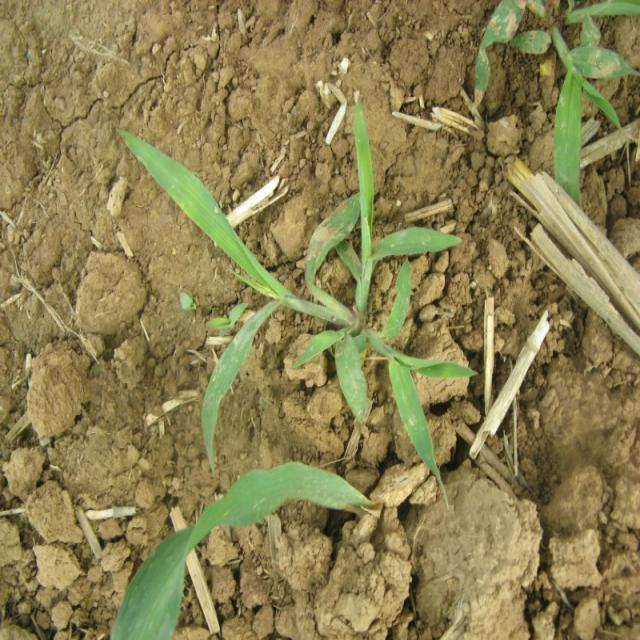bg: (118, 124, 461, 492)
